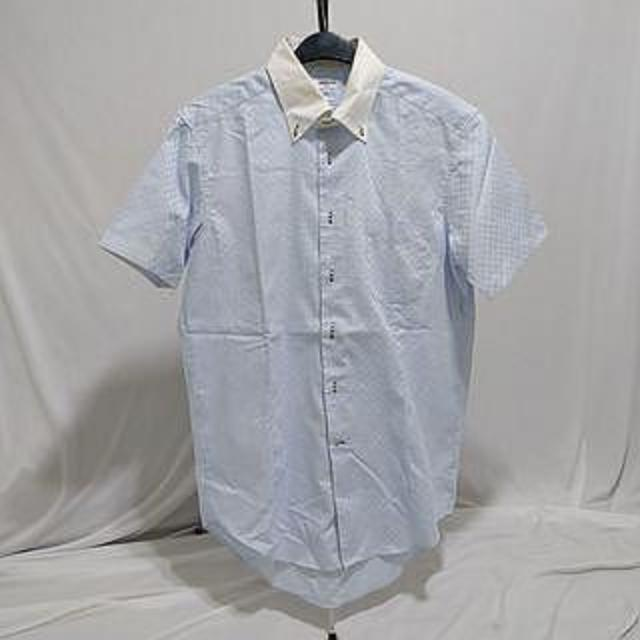SHIRT: (92, 39, 580, 618)
